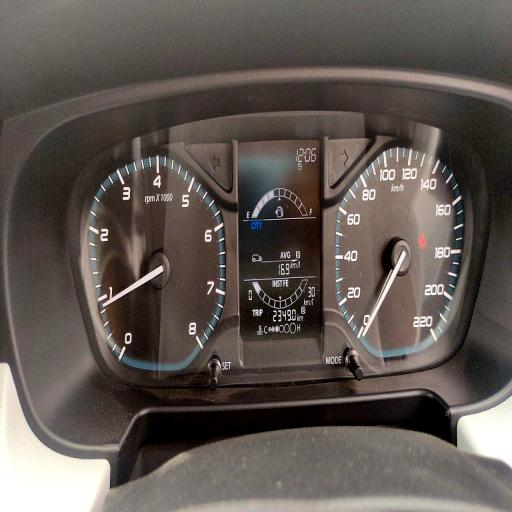belt: (418, 233, 426, 249)
tachometer: (89, 156, 226, 371)
